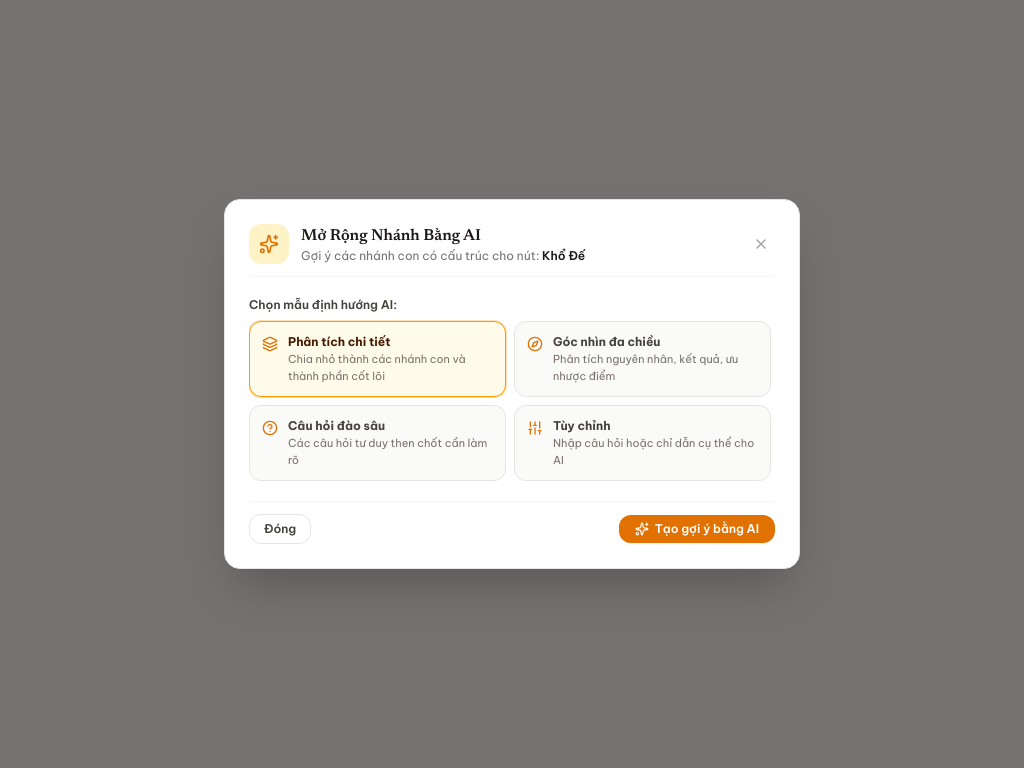
Test: Mind Map AI Node Expansion UI & Integration (Phase P3) › 2. MindMapAiExpansionModal UI Workflow › Scenario 2.5: generates candidates using live Gemini-backed client when customFetch provides valid response
The image size is (1024, 768).
Click the button with test id "btn-submit-ai-generate" at point(697, 529), box [619,515,775,543]
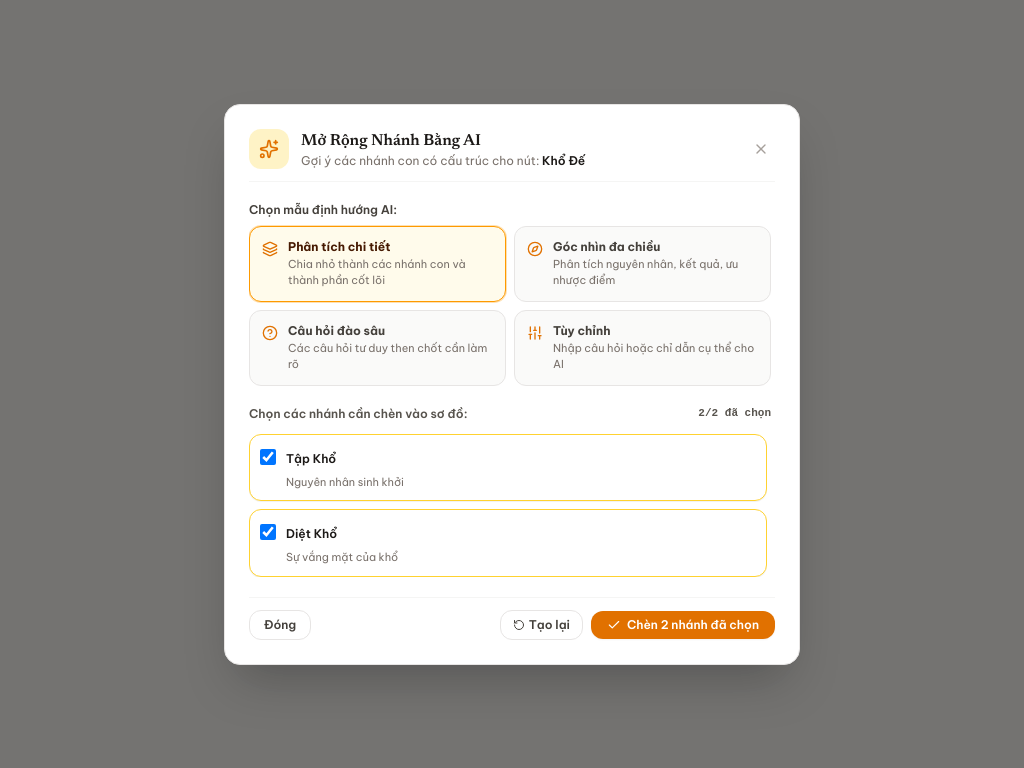
Now the element with test id "ai-candidate-list" is shown, box [249,402,771,576]
Now the 1st field showing "Tập Khổ" is shown, box [286,448,756,470]
Now the 2nd field showing "Diệt Khổ" is shown, box [286,524,756,545]
